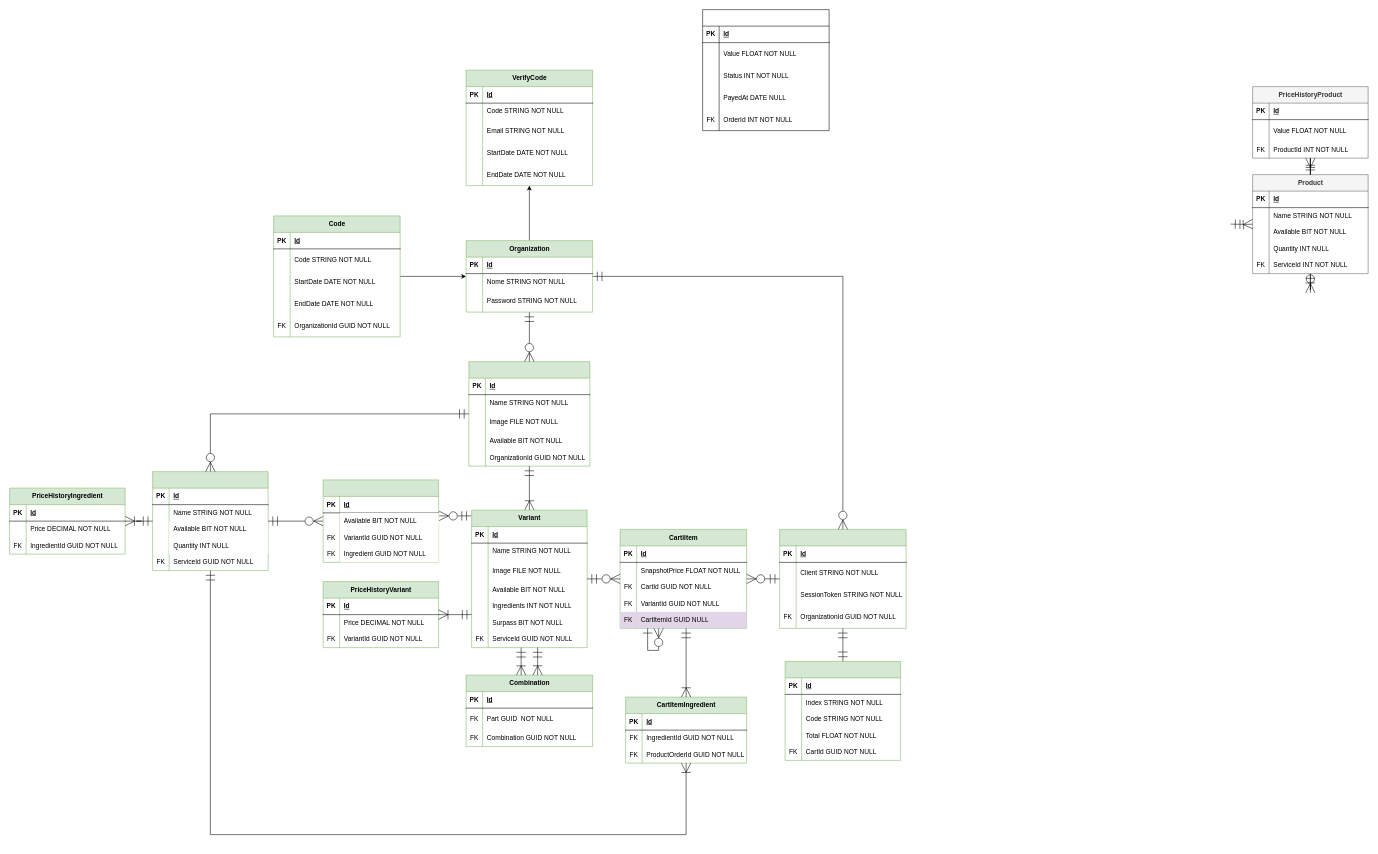
The diagram is 1378 pixels wide and 854 high, and some of its shapes have lost their labels. The box of each missing label's shape, as (x1, y1, x2, y2) in pixels:
Cart: (779, 529, 906, 628)
Ingredient: (152, 471, 268, 571)
Order: (785, 661, 901, 760)
Payments: (702, 9, 829, 131)
Service: (468, 361, 590, 466)
VariantIngredient: (323, 479, 439, 562)
